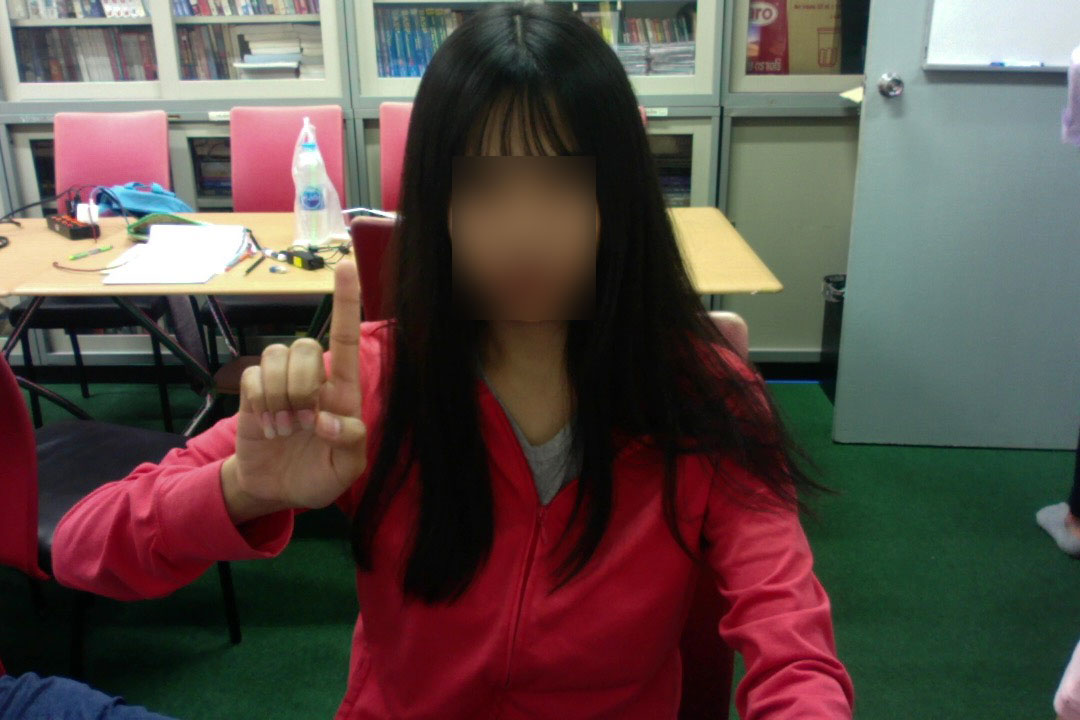dor: (215, 247, 373, 518)
